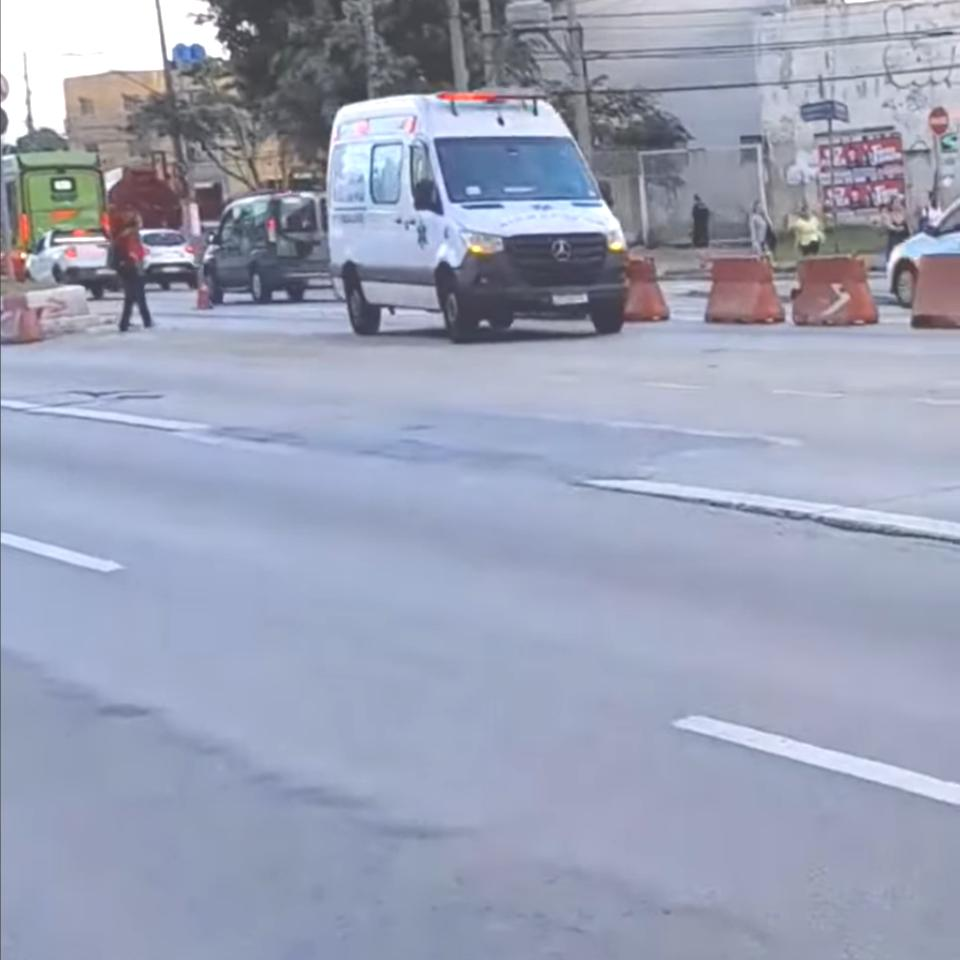ambulancia: (324, 84, 632, 344)
